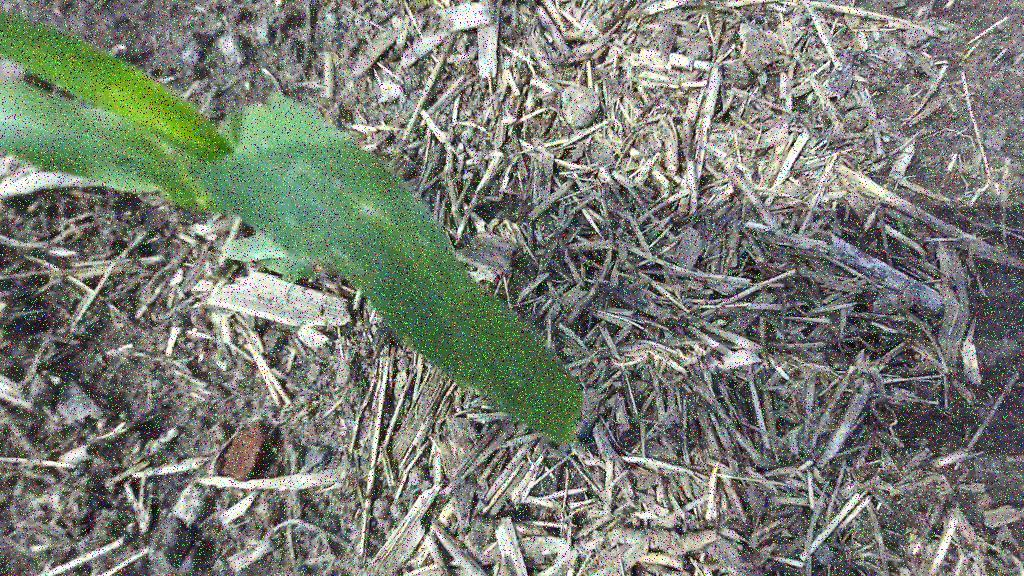BroWeed: (891, 215, 910, 236), (754, 69, 770, 89), (752, 373, 767, 391), (778, 401, 786, 414), (382, 1, 393, 10)
